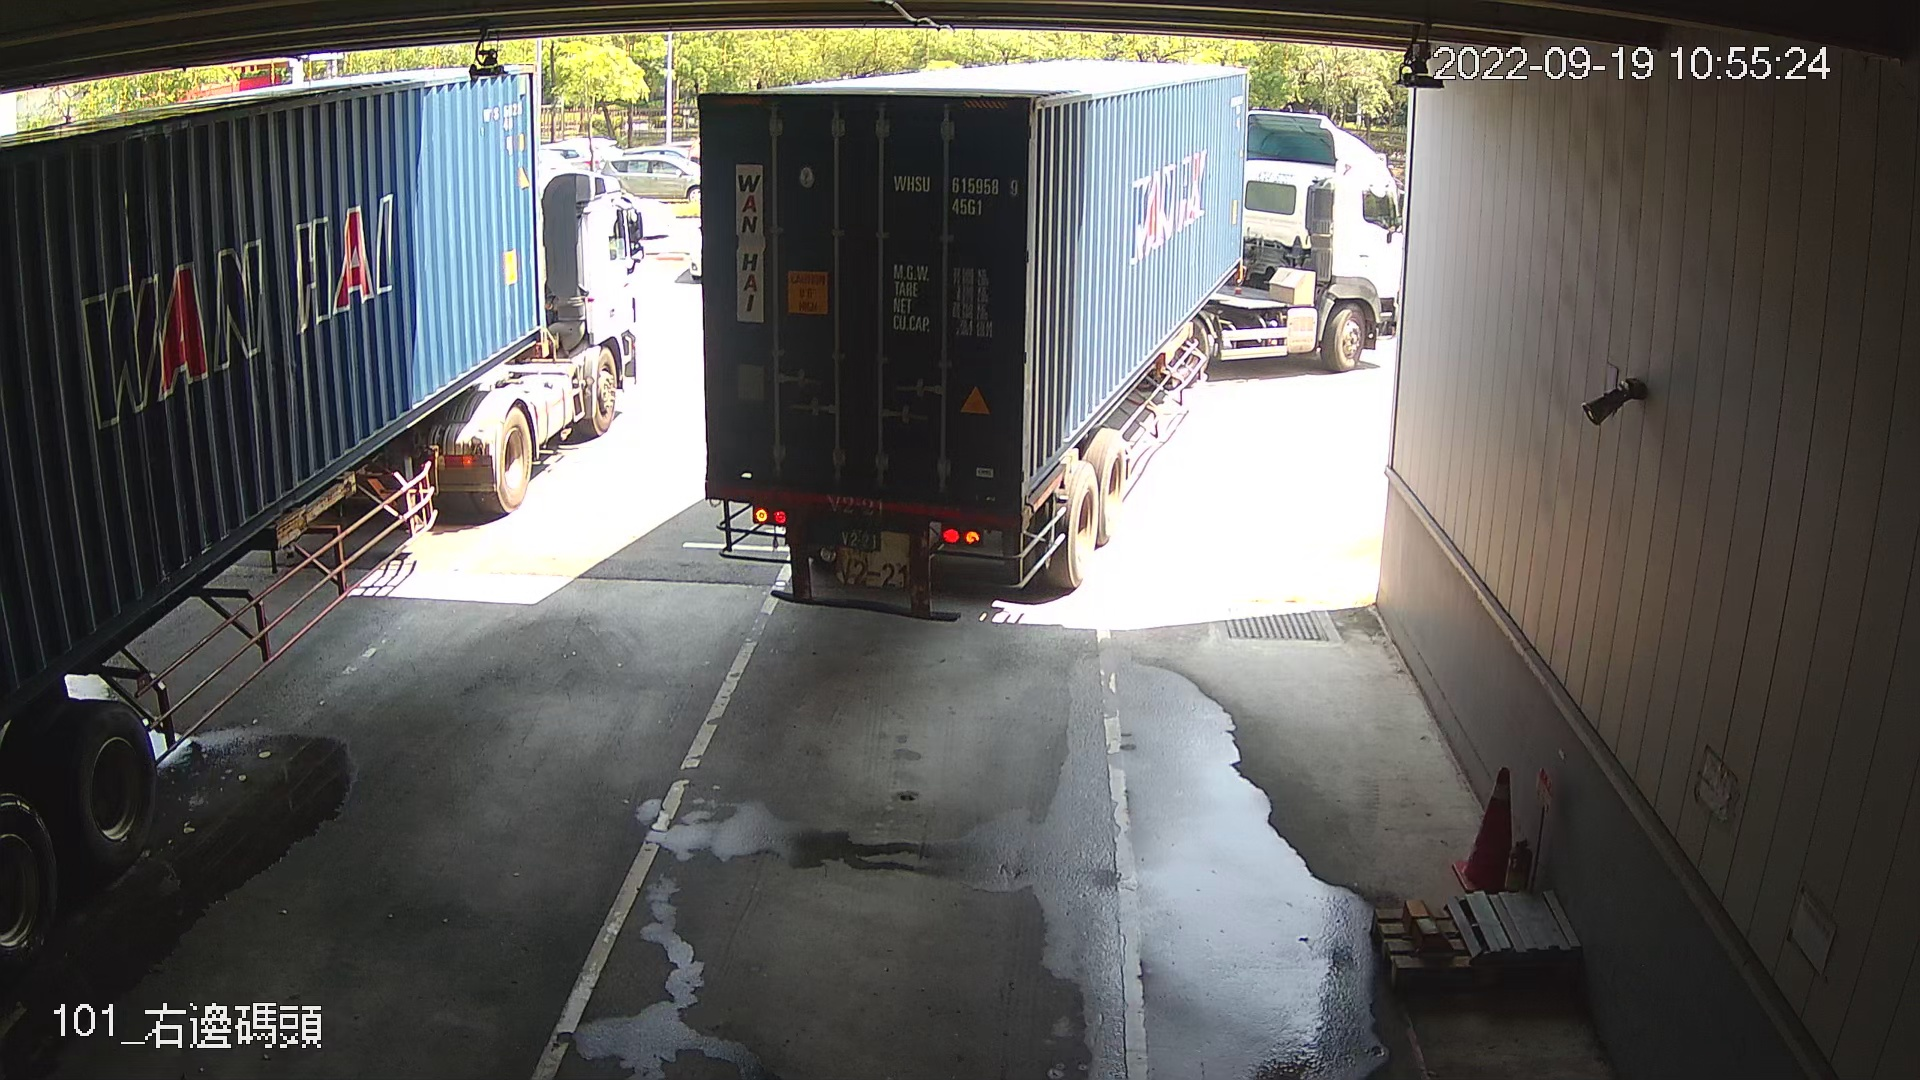container: (885, 167, 1023, 222)
